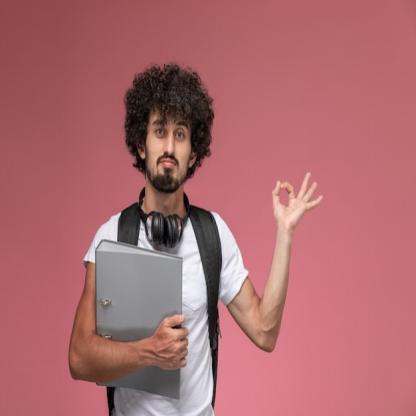ok: (268, 164, 326, 230)
